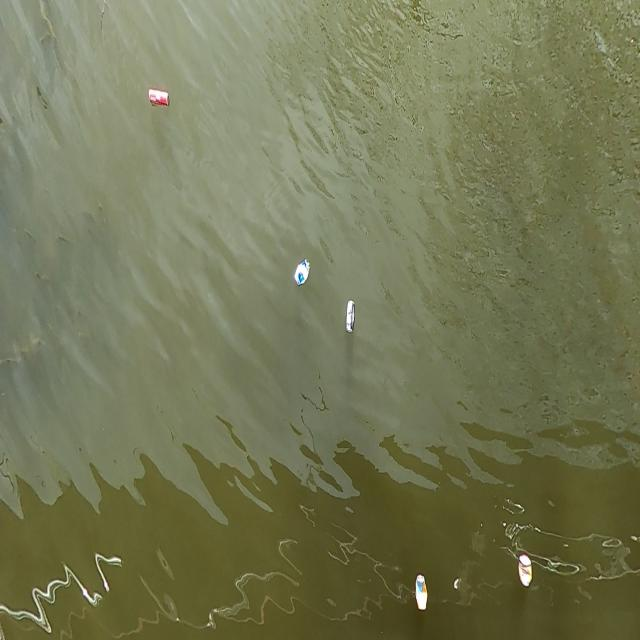Non plastique: (295, 259, 310, 285), (520, 555, 532, 586), (416, 575, 427, 608), (346, 300, 356, 332), (149, 89, 168, 105)
